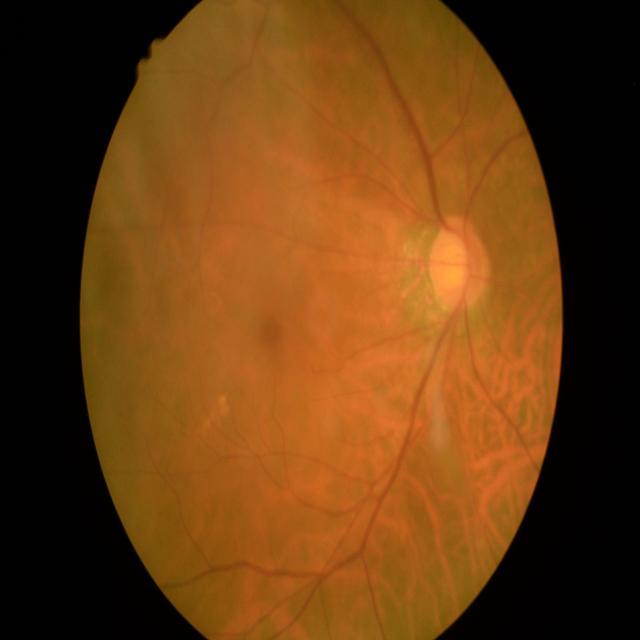cup: (435, 228, 472, 302)
disk: (430, 214, 488, 313)
